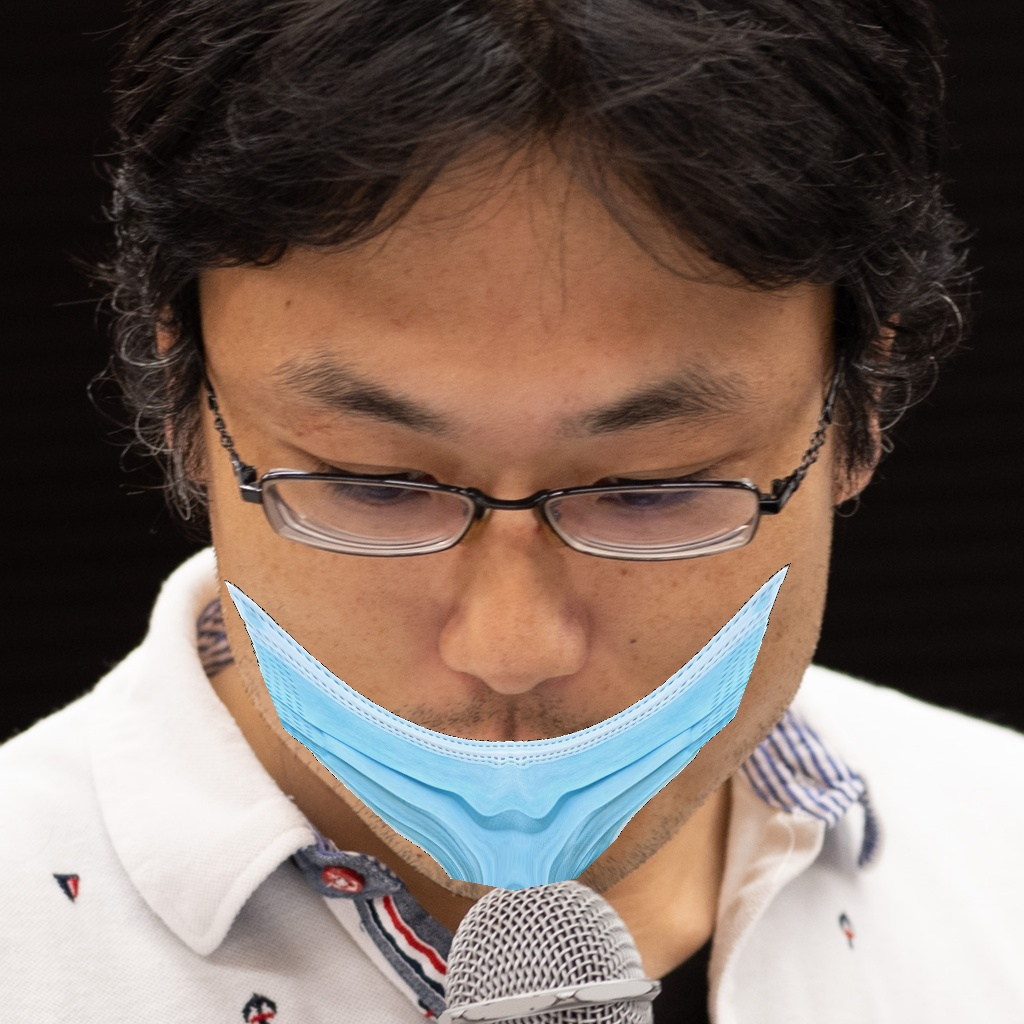mascarilla_mal_puesta: (184, 298, 929, 963)
